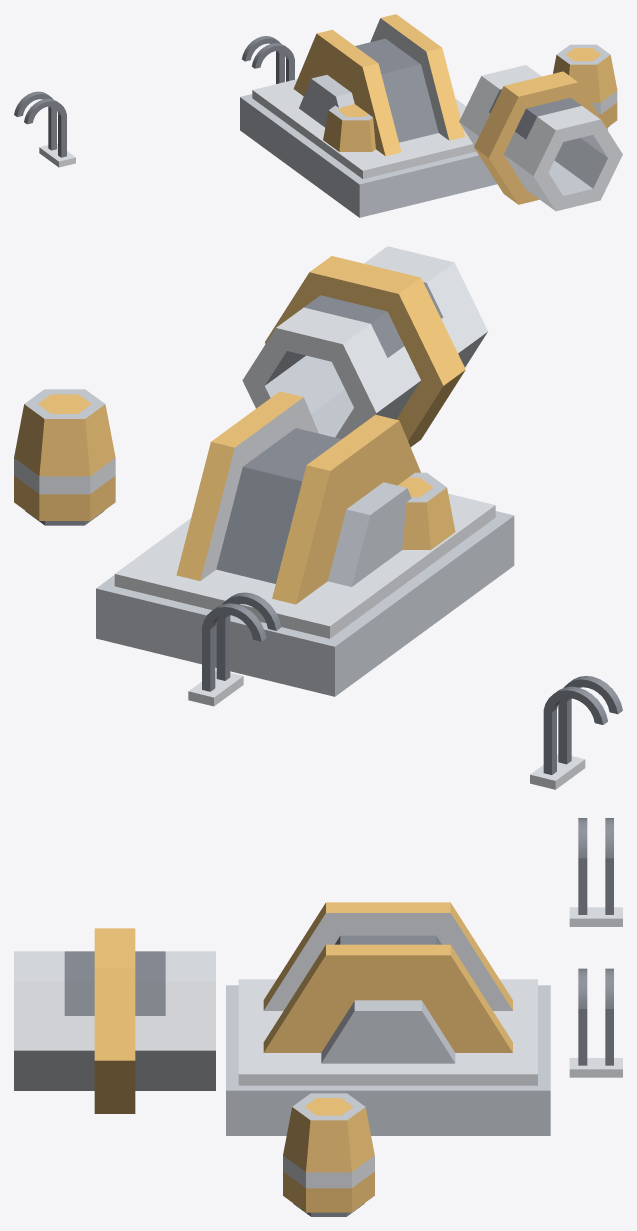
Rendered from rtg_lvl2.glb.
3 views of the same model, one above another, from view 1: azimuth 30°, elevation 25°; view 2: azimuth 150°, elevation 25°; view 3: azimuth 270°, elevation 25° (orthographic). The views are drawn at different scales.
Parts seen in each view (by area): view 1: machine_generatorLarge.001, pipe_ring.001, machine_barrel.001, machine_barrel.002, cables.002, cables.001; view 2: machine_generatorLarge.001, pipe_ring.001, machine_barrel.001, cables.001, cables.002, machine_barrel.002; view 3: machine_generatorLarge.001, pipe_ring.001, machine_barrel.001, cables.001, cables.002.
Part boxes in pixels (<box>): machine_generatorLarge.001: <box>240,14,496,217</box>; pipe_ring.001: <box>459,65,622,211</box>; machine_barrel.001: <box>553,44,617,127</box>; machine_barrel.002: <box>323,104,375,151</box>; cables.002: <box>14,91,75,167</box>; cables.001: <box>242,36,294,83</box>; machine_generatorLarge.001: <box>96,391,514,696</box>; pipe_ring.001: <box>242,246,487,446</box>; machine_barrel.001: <box>14,389,115,525</box>; cables.001: <box>188,592,281,706</box>; cables.002: <box>530,676,622,789</box>; machine_barrel.002: <box>398,472,455,549</box>; machine_generatorLarge.001: <box>226,902,550,1135</box>; pipe_ring.001: <box>14,928,215,1113</box>; machine_barrel.001: <box>283,1093,374,1216</box>; cables.001: <box>569,968,622,1077</box>; cables.002: <box>569,818,622,926</box>.
Size of the model in its own units: 3.22 by 0.815 by 2.56.
